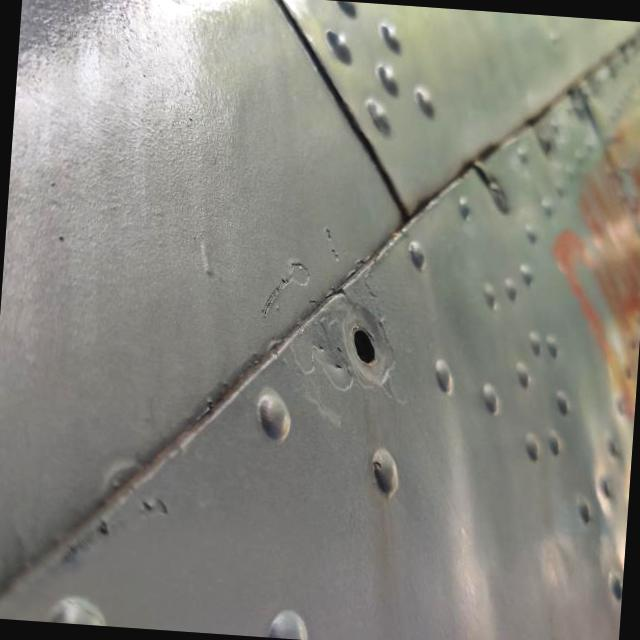Missing Fastener: (338, 302, 398, 388)
